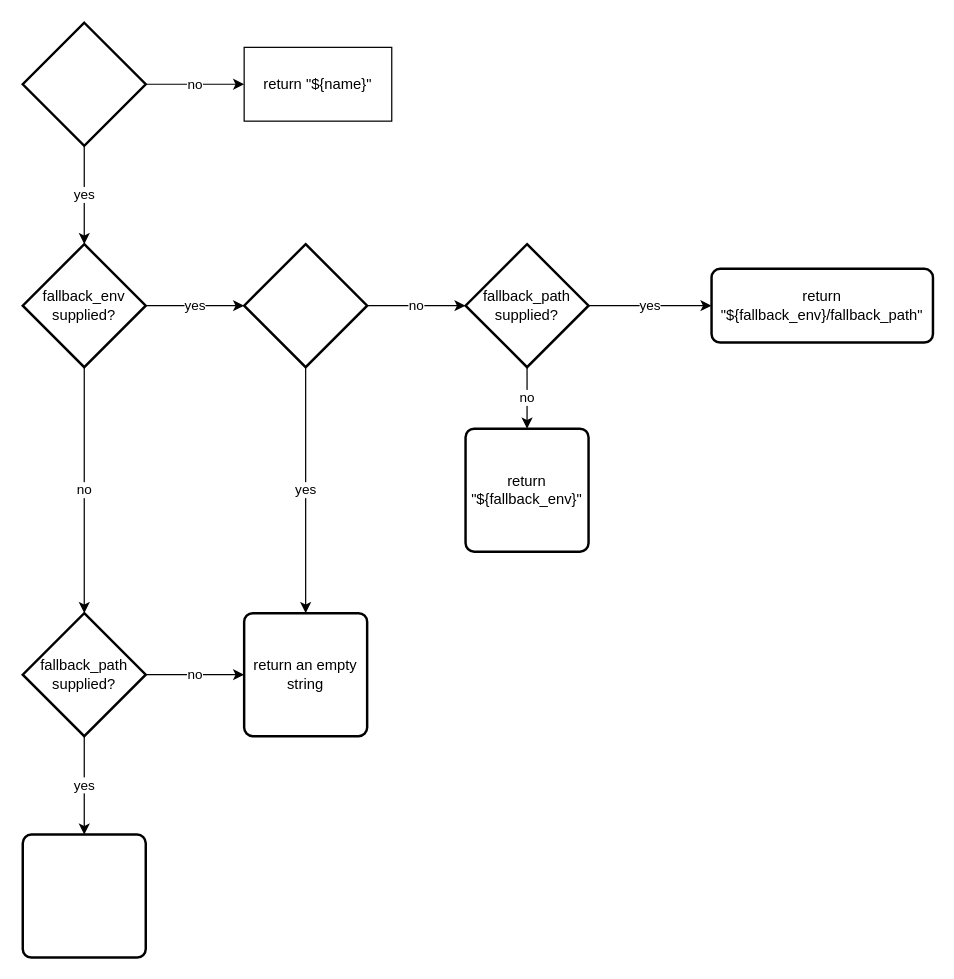
The diagram is 954 pixels wide and 979 high, and some of its shapes have lost their labels. The centre of each missing label's shape, as x and y in pixels:
${fallback_env} empty?: the point at 305,305
${name} empty?: the point at 83,83
return "fallback_path": the point at 83,895
